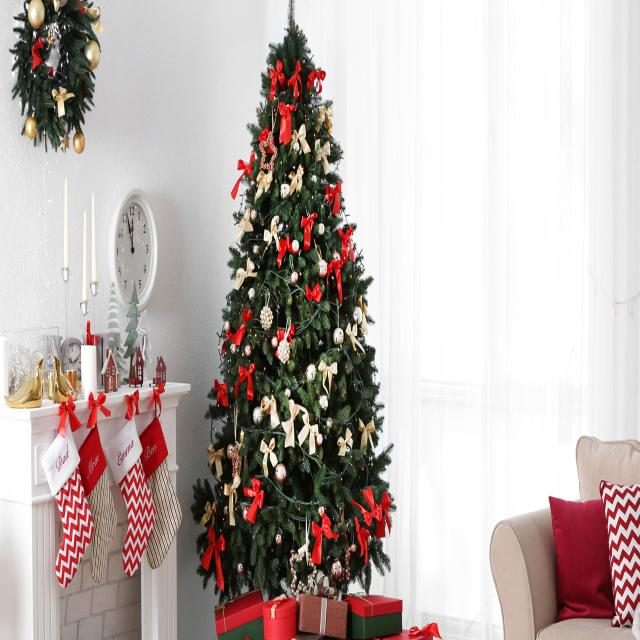Christmas-tree: (191, 0, 401, 594)
